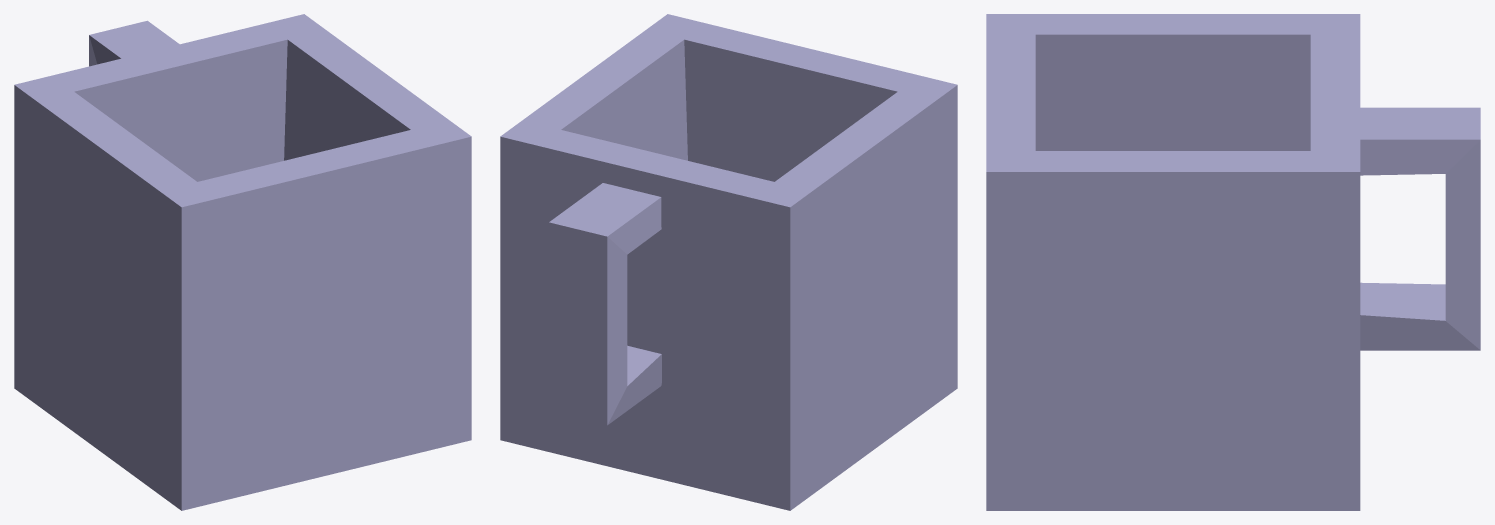
File: CandylandCup_03.fbx
3 renders of one model, left to right at view 1: azimuth 30°, elevation 25°; view 2: azimuth 150°, elevation 25°; view 3: azimuth 270°, elevation 25°, orthographic. The views are drawn at different scales.
Parts seen in each view (by area): view 1: CandylandCup_03; view 2: CandylandCup_03; view 3: CandylandCup_03.
Boxes of the visible parts, x1,y1,x2,y2 form: CandylandCup_03: (14,14,471,510); CandylandCup_03: (500,14,957,510); CandylandCup_03: (986,14,1480,510).
Bounding box in the file's own units: 0.5116 × 0.5116 × 0.6766.
